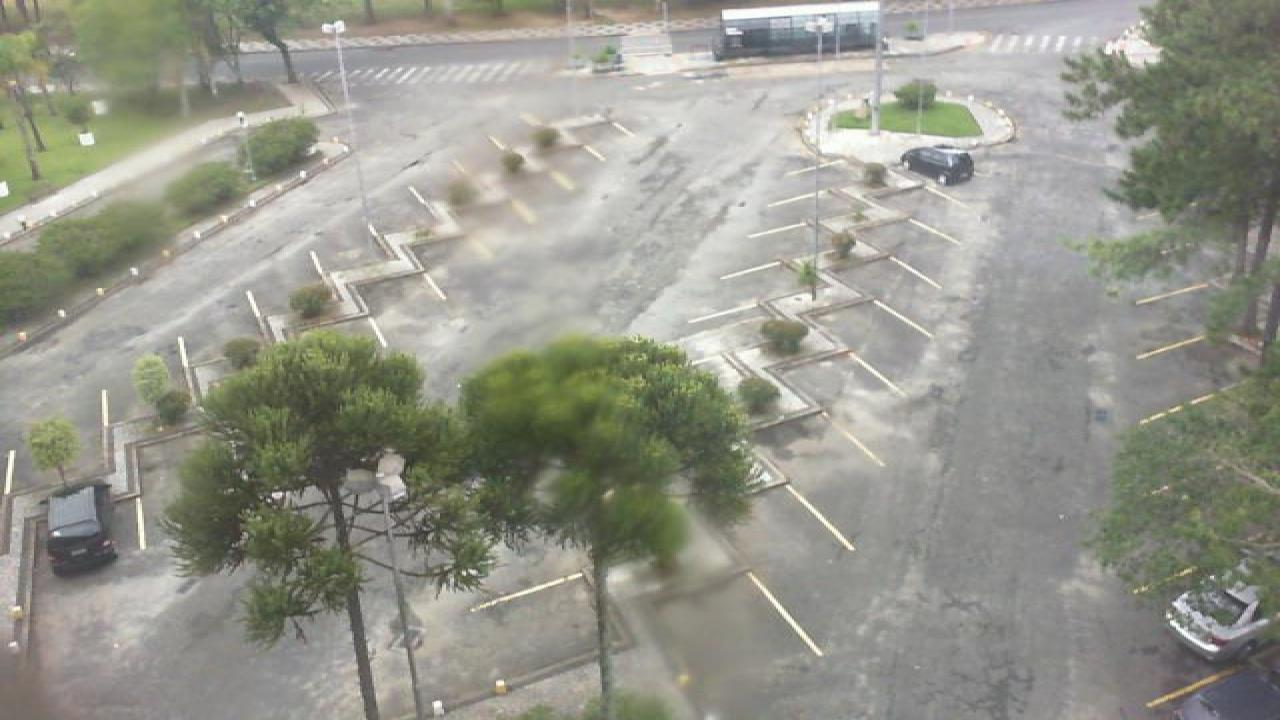Car: (1162, 562, 1280, 660), (42, 479, 118, 576), (1176, 684, 1280, 720), (898, 143, 976, 187)
